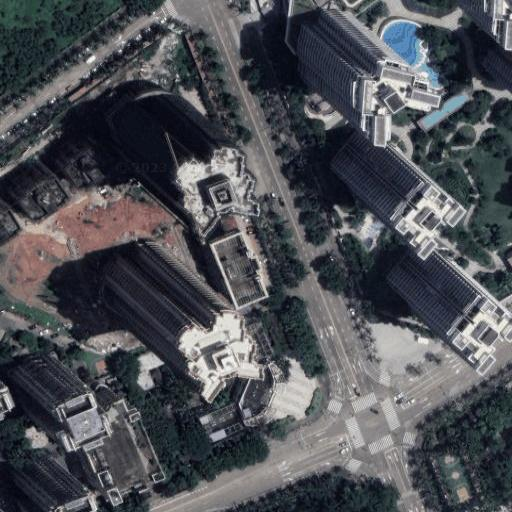building: (195, 319, 282, 442), (73, 402, 163, 501), (116, 89, 204, 181), (105, 244, 192, 336), (384, 233, 468, 318), (302, 9, 388, 91), (327, 119, 408, 201), (190, 214, 248, 294), (284, 0, 366, 55), (11, 455, 76, 512), (10, 352, 73, 410), (5, 165, 58, 216), (49, 136, 95, 181), (488, 30, 512, 78), (206, 199, 222, 217)
